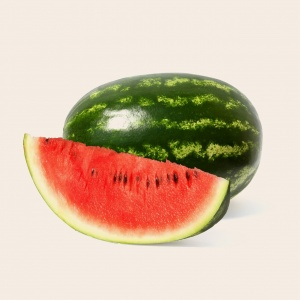Watermelon: (58, 69, 269, 185)
